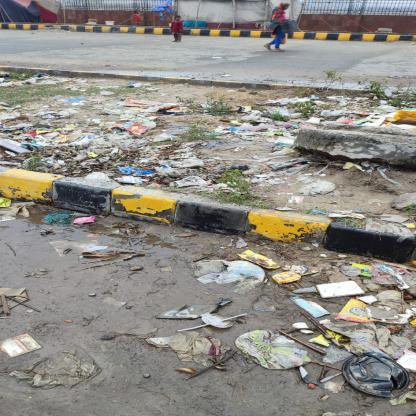Garbage: (1, 90, 416, 217), (208, 244, 416, 413)
